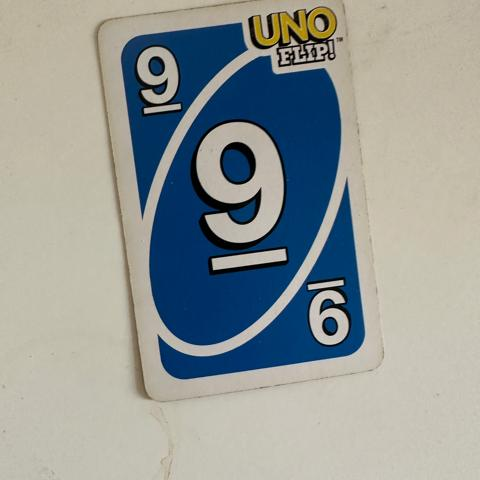lblue-9: (111, 28, 194, 131)
